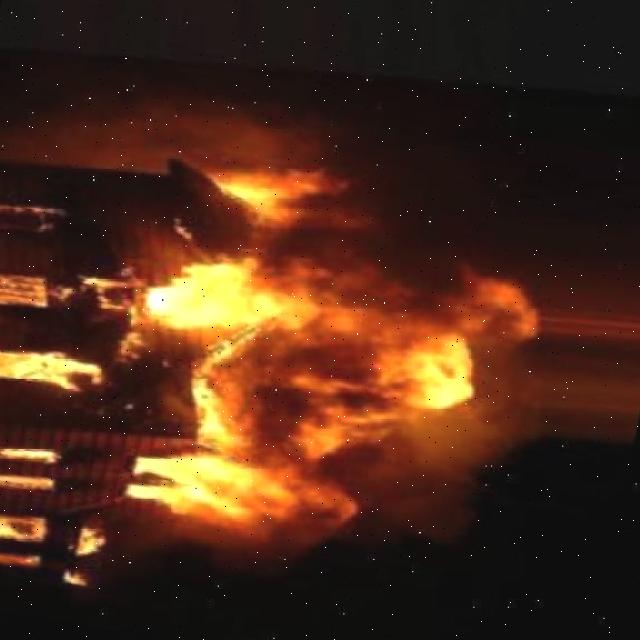fire: (92, 208, 528, 572), (184, 147, 364, 241), (0, 338, 92, 402), (59, 521, 113, 603), (0, 440, 66, 501), (0, 495, 51, 557), (0, 272, 36, 331), (0, 535, 36, 585)
